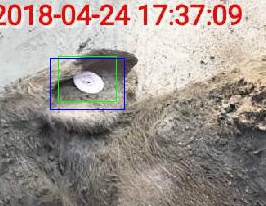text: (58, 56, 116, 101)
